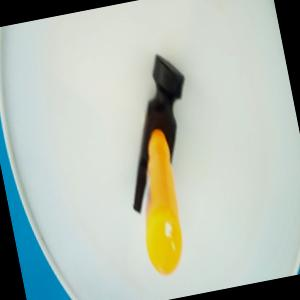martelo: (103, 47, 222, 282)
